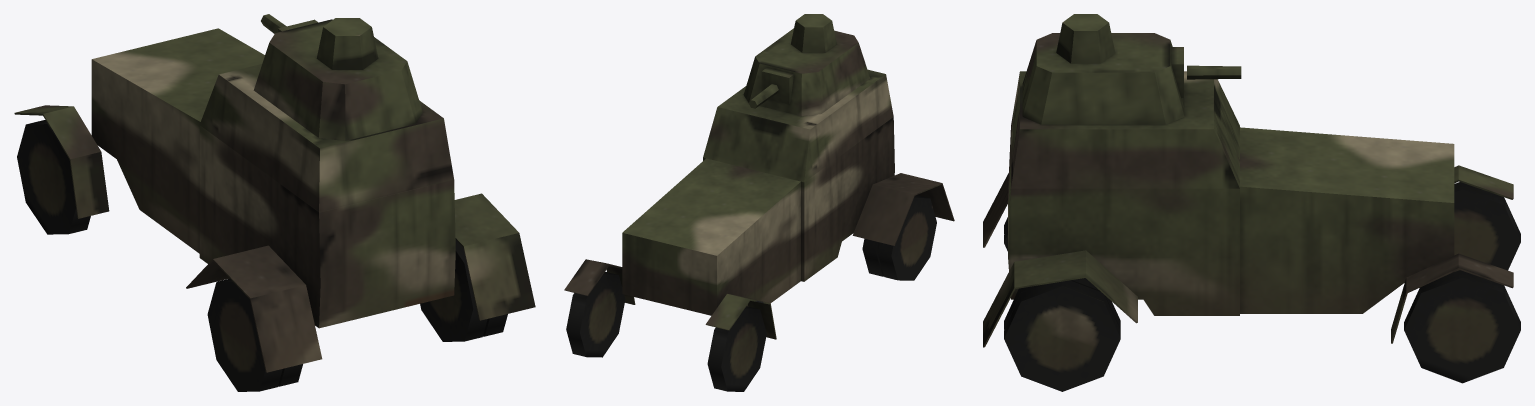
The picture shows the model from 3 angles, left to right: view 1: azimuth 30°, elevation 25°; view 2: azimuth 150°, elevation 25°; view 3: azimuth 270°, elevation 25°; orthographic projection. The views are drawn at different scales.
Visible parts, largest first — view 1: Chassis, Tourelle_01, Roue_02, Roue_Gauche_01; view 2: Chassis, Tourelle_01, Roue_Droite_01, Roue_Gauche_01, Roue_02, Axe_Canon_01, Canon_01; view 3: Chassis, Tourelle_01, Roue_02, Roue_Droite_01, Roue_Gauche_01, Canon_01, Axe_Canon_01.
Boxes of the visible parts, <box> form: Chassis: <box>14,28,535,372</box>; Tourelle_01: <box>253,18,422,140</box>; Roue_02: <box>207,240,507,391</box>; Roue_Gauche_01: <box>17,120,90,234</box>; Chassis: <box>564,69,954,339</box>; Tourelle_01: <box>743,14,870,116</box>; Roue_Droite_01: <box>566,271,625,357</box>; Roue_Gauche_01: <box>707,306,766,391</box>; Roue_02: <box>862,195,936,280</box>; Axe_Canon_01: <box>761,68,793,104</box>; Canon_01: <box>749,84,778,108</box>; Chassis: <box>983,71,1513,347</box>; Tourelle_01: <box>1022,14,1184,124</box>; Roue_02: <box>1004,217,1120,391</box>; Roue_Droite_01: <box>1404,270,1520,383</box>; Roue_Gauche_01: <box>1454,182,1520,271</box>; Canon_01: <box>1187,65,1241,79</box>; Axe_Canon_01: <box>1171,47,1183,97</box>.
Bounding box in the file's own units: 191 × 345 × 221.
1 material, 1 textured.
